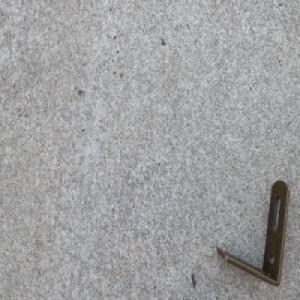MetalPart: (216, 178, 291, 288)
